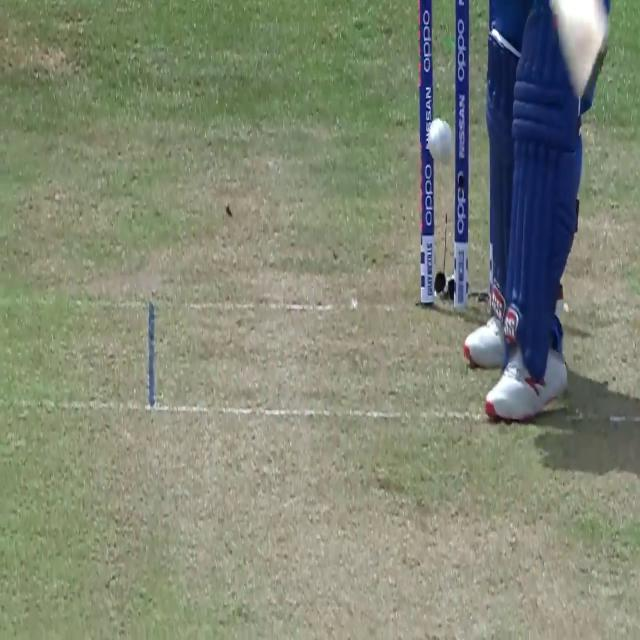ball: (428, 120, 451, 165)
